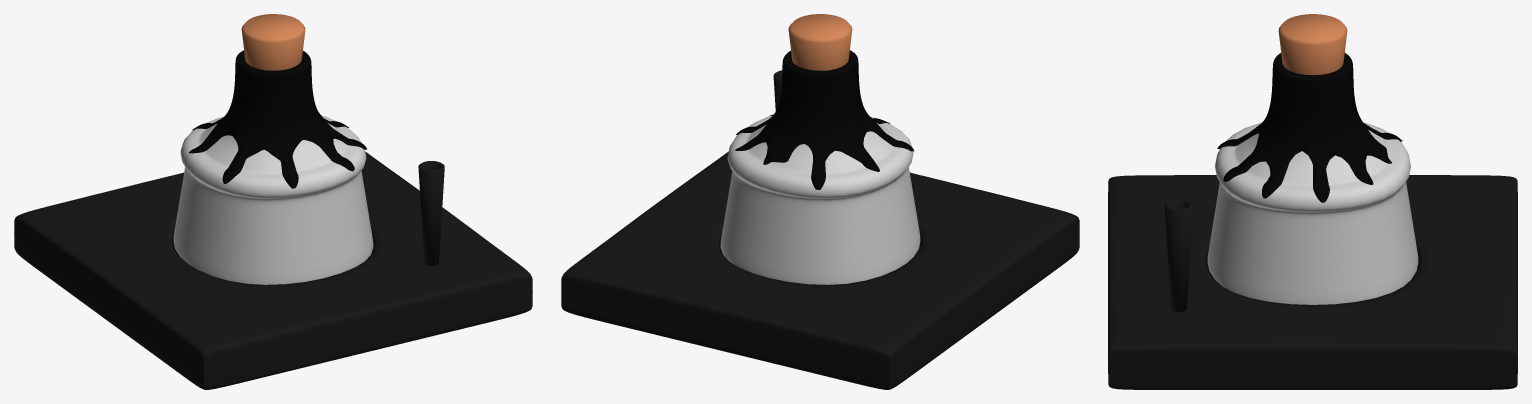
File: ink.fbx
3 views of the same model, side by side, from view 1: azimuth 30°, elevation 25°; view 2: azimuth 150°, elevation 25°; view 3: azimuth 270°, elevation 25° (orthographic). The views are drawn at different scales.
Parts seen in each view (by area): view 1: Cube; view 2: Cube; view 3: Cube.
Part boxes in pixels (x1,y1,x2,y2): Cube: [14, 14, 532, 389]; Cube: [561, 14, 1079, 389]; Cube: [1108, 14, 1517, 389].
Bounding box in the file's own units: 10.04 × 7.55 × 10.04.
